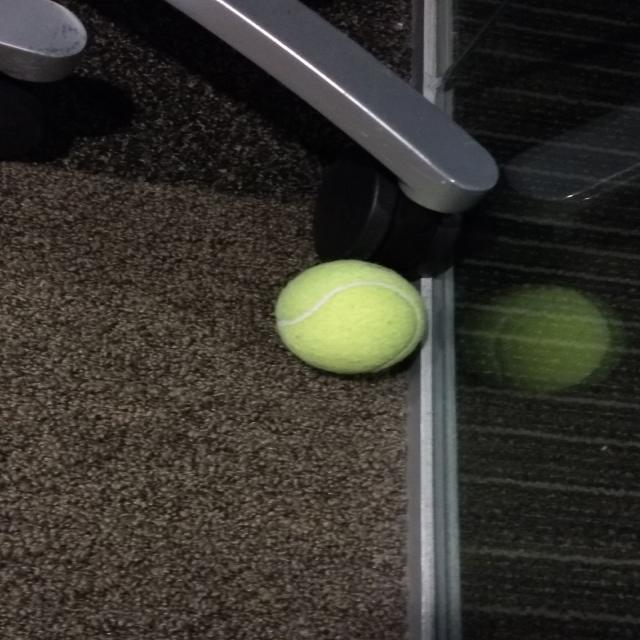Tennis-Ball: (276, 259, 427, 384)
